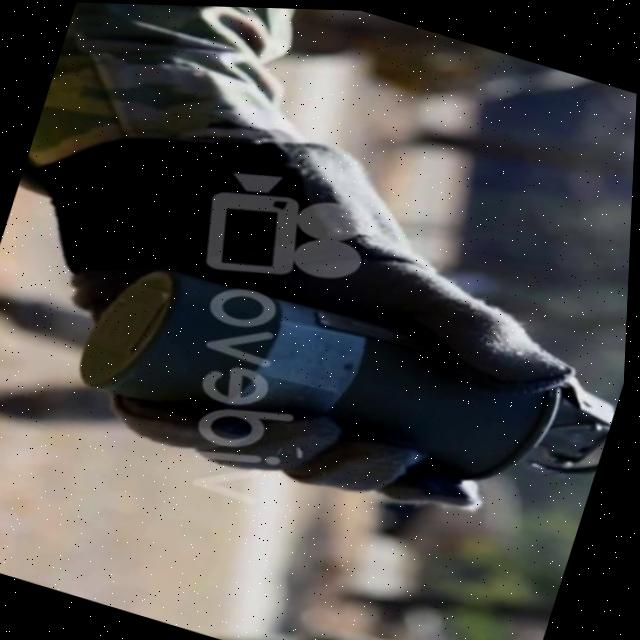grenade: (26, 148, 635, 606)
